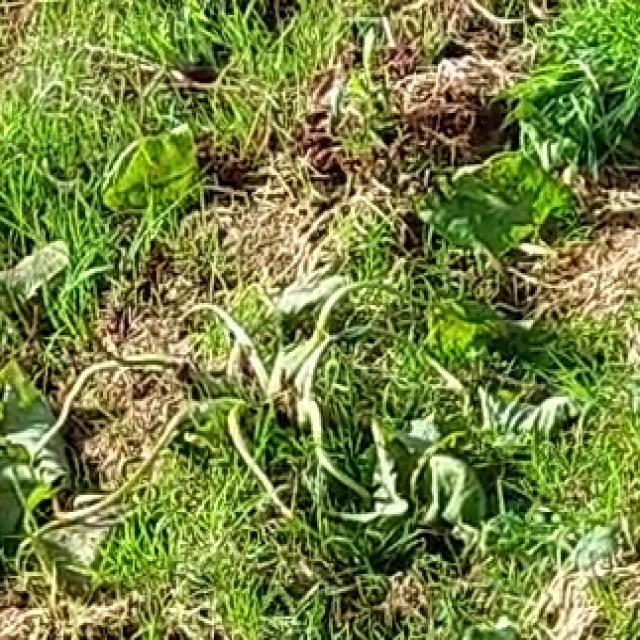organic waste: (8, 102, 608, 582)
